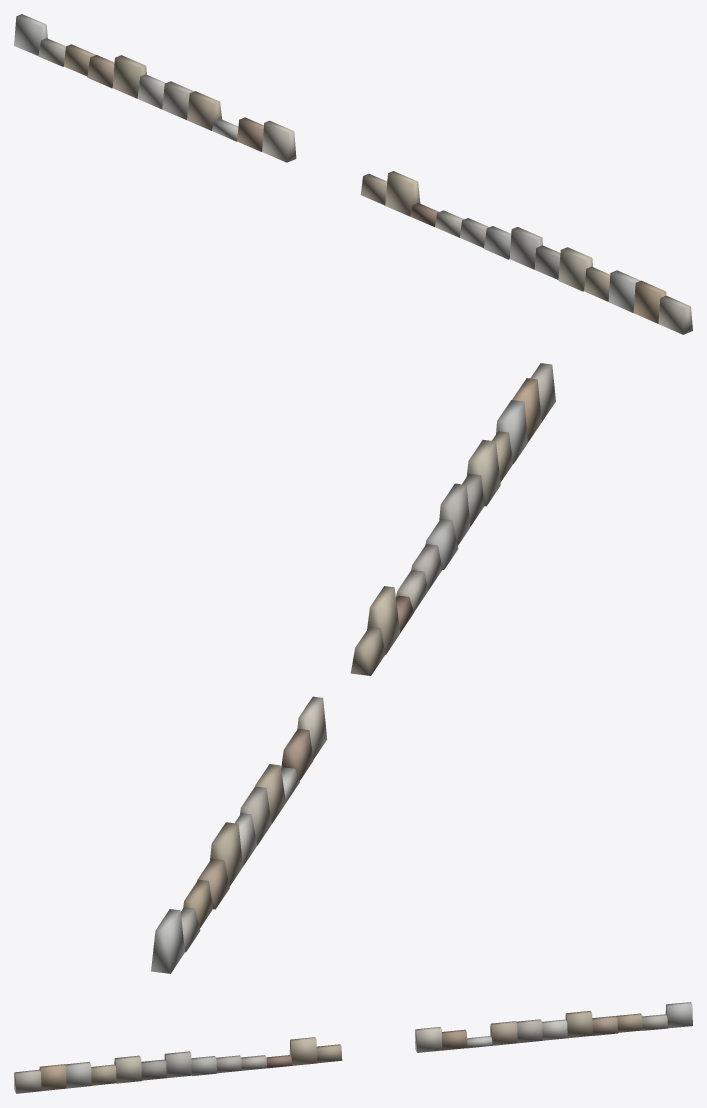
Rendered from farm_-2_14_collision.glb.
3 renders of one model, top to bottom at view 1: azimuth 30°, elevation 25°; view 2: azimuth 150°, elevation 25°; view 3: azimuth 270°, elevation 25°, orthographic. The views are drawn at different scales.
Visible parts, largest first — view 1: geometry_0; view 2: geometry_0; view 3: geometry_0.
Boxes of the visible parts, bbox=[...] form: geometry_0: bbox=[14, 14, 692, 334]; geometry_0: bbox=[151, 363, 555, 973]; geometry_0: bbox=[14, 1002, 692, 1093].
Size of the model in its own units: 10.73 by 1.68 by 40.97.
